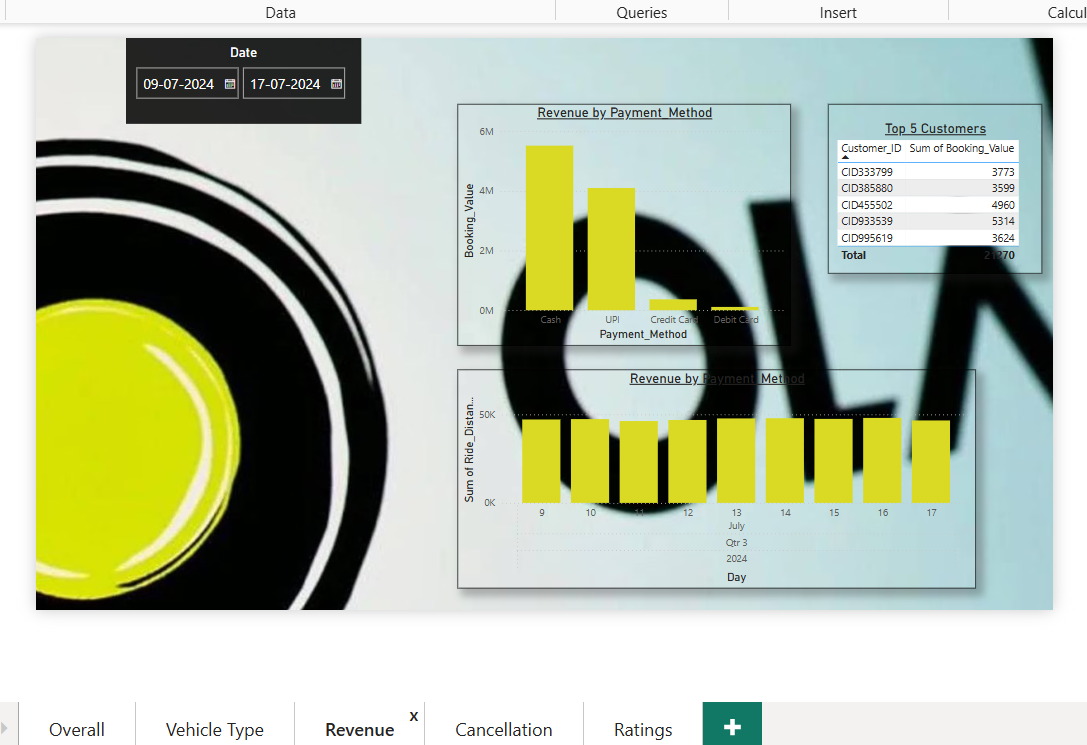

What the dashboard file says about the page in this screenshot:
{"tool":"powerbi","page":{"name":"Revenue","canvas":[1280,720],"ordinal":2},"visuals":[{"type":"columnChart","title":"Revenue by  Payment_Method","fields":{"Y":["Sum(July.Ride_Distance)"],"Category":["July.Date.Variation.Date Hierarchy.Year","July.Date.Variation.Date Hierarchy.Quarter","July.Date.Variation.Date Hierarchy.Month","July.Date.Variation.Date Hierarchy.Day"]},"box":[530.8,417.3,651.9,275],"z":0},{"type":"columnChart","title":"Revenue by  Payment_Method","fields":{"Category":["July.Payment_Method"],"Y":["Sum(July.Booking_Value)"]},"box":[530.8,82.7,419.2,303.8],"z":1},{"type":"slicer","title":"Date","fields":{"Values":["July.Date"]},"box":[113.5,0,296.2,107.7],"z":2},{"type":"tableEx","title":"Top 5 Customers","fields":{"Values":["July.Customer_ID","Sum(July.Booking_Value)"]},"box":[996.2,82.7,269.2,213.5],"z":3}]}

Visuals, with their boxes on the page's 1280x720 design canvas (x1, y1, x2, y2). These are canvas units, not pixel positions in the 1087x745 screenshot, which may show the page scaled, cropped or inside an application window:
"Revenue by  Payment_Method" columnChart: bbox(531, 417, 1183, 692)
"Revenue by  Payment_Method" columnChart: bbox(531, 83, 950, 386)
"Date" slicer: bbox(114, 0, 410, 108)
"Top 5 Customers" tableEx: bbox(996, 83, 1265, 296)
